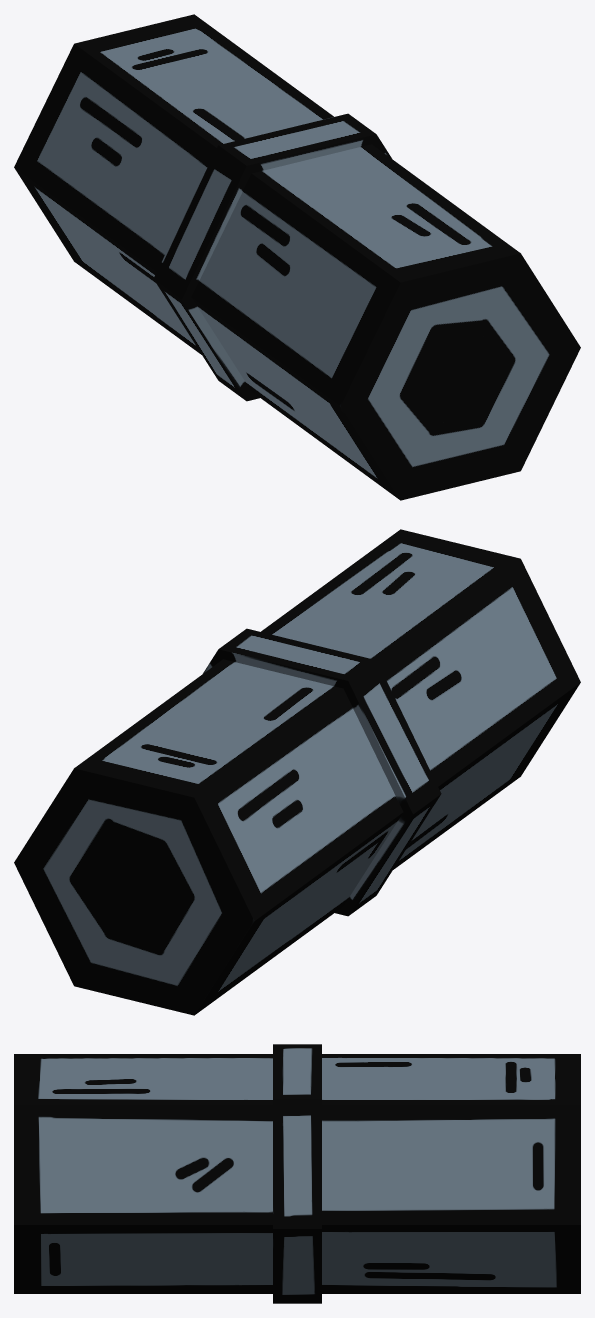
Rendered from I_Gutter.fbx.
The picture shows the model from 3 angles, top to bottom: view 1: azimuth 30°, elevation 25°; view 2: azimuth 150°, elevation 25°; view 3: azimuth 270°, elevation 25°; orthographic projection. The views are drawn at different scales.
Visible parts, largest first — view 1: I_Gutter; view 2: I_Gutter; view 3: I_Gutter.
Boxes of the visible parts, <box> form: I_Gutter: <box>14,14,580,500</box>; I_Gutter: <box>14,529,580,1015</box>; I_Gutter: <box>14,1044,580,1303</box>.
Size of the model in its own units: 126 by 109 by 275.
